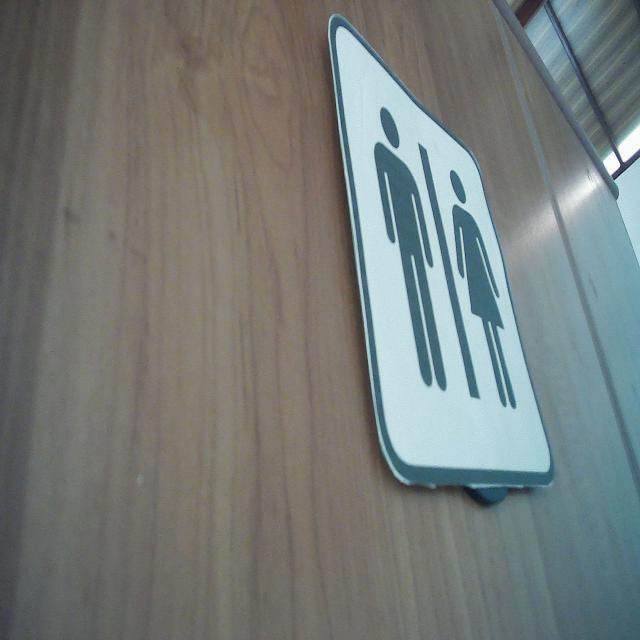restroom: (324, 9, 558, 492)
